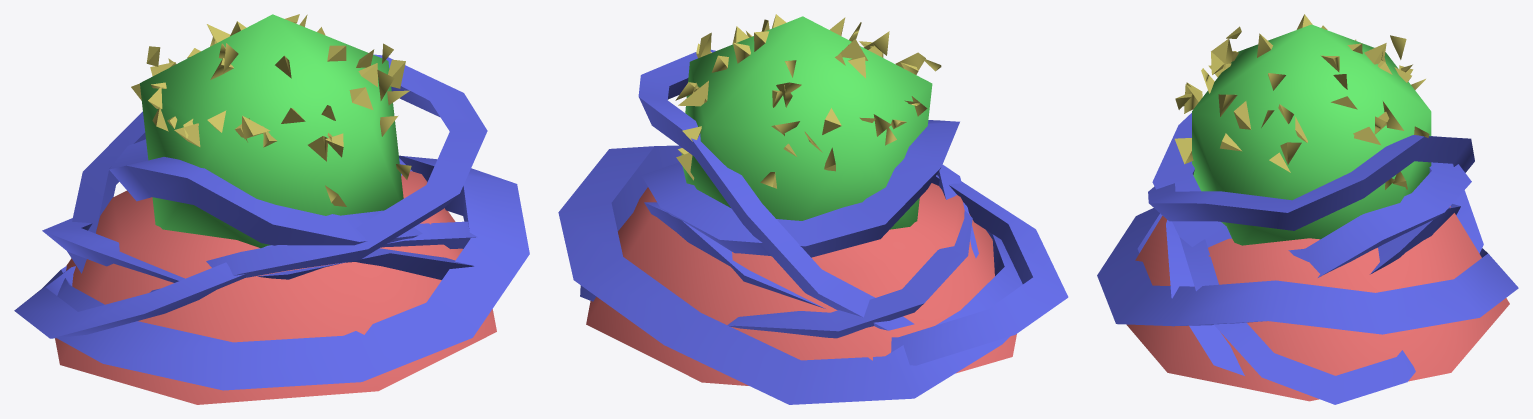
The model's file is SM_Spagetti.FBX.
3 renders of one model, left to right at view 1: azimuth 30°, elevation 25°; view 2: azimuth 150°, elevation 25°; view 3: azimuth 270°, elevation 25°, orthographic. The views are drawn at different scales.
Parts seen in each view (by area): view 1: SM_Spagetti; view 2: SM_Spagetti; view 3: SM_Spagetti.
Part boxes in pixels (box(x1,y1,x2,y2)): SM_Spagetti: box(14, 14, 529, 404); SM_Spagetti: box(558, 14, 1068, 404); SM_Spagetti: box(1097, 14, 1518, 404).
Size of the model in its own units: 10.05 by 6.5 by 8.3.
